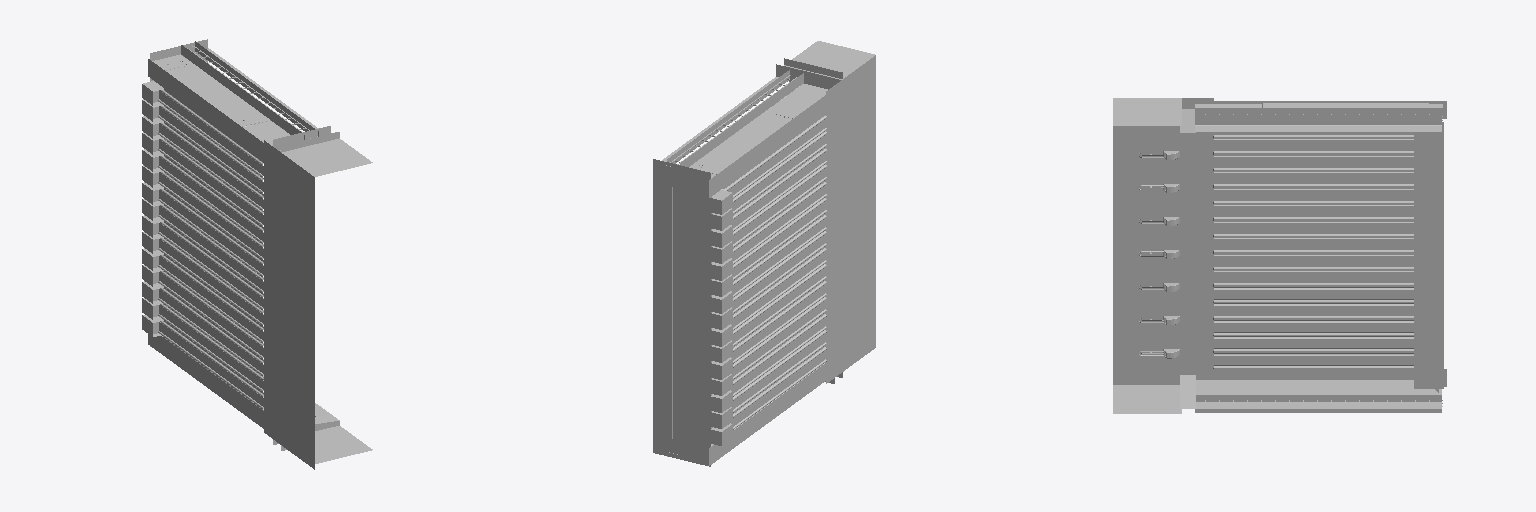
File: alley_no_roof.obj
3 renders of one model, left to right at view 1: azimuth 30°, elevation 25°; view 2: azimuth 150°, elevation 25°; view 3: azimuth 270°, elevation 25°, orthographic.
Parts seen in each view (by area): view 1: Venue01.lwo; view 2: Venue01.lwo; view 3: Venue01.lwo.
Boxes of the visible parts, <box> form: Venue01.lwo: <box>142,39,372,469</box>; Venue01.lwo: <box>653,41,875,466</box>; Venue01.lwo: <box>1113,98,1446,413</box>.
Size of the model in its own units: 12.98 by 55.97 by 55.51.